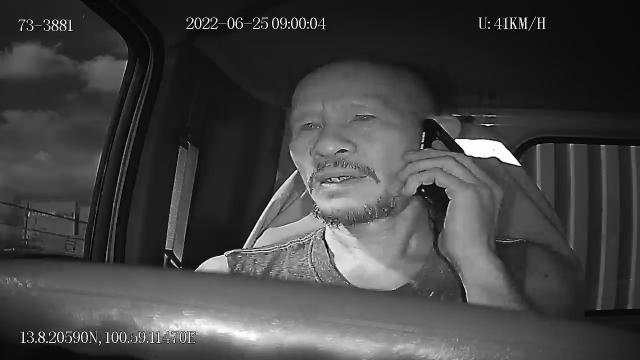PhoneUse: (416, 115, 464, 219)
SafeDriving: (343, 102, 383, 130), (292, 110, 328, 138)
